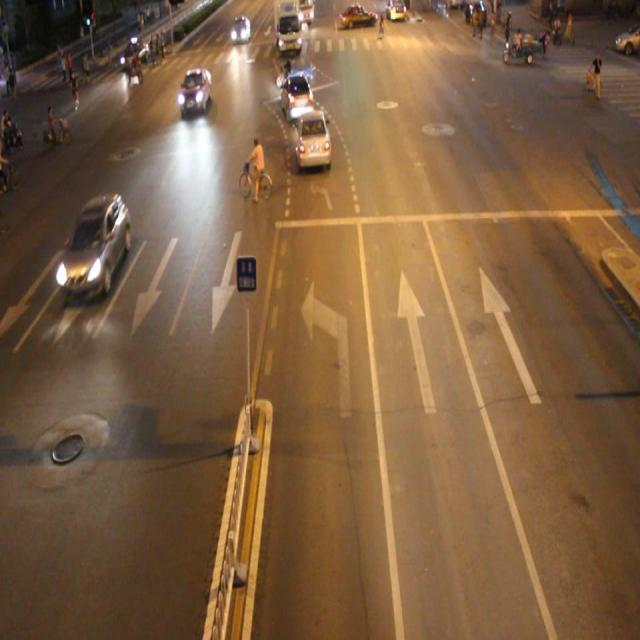car: (57, 191, 130, 296), (295, 104, 334, 164), (280, 67, 316, 119), (177, 66, 212, 112)
